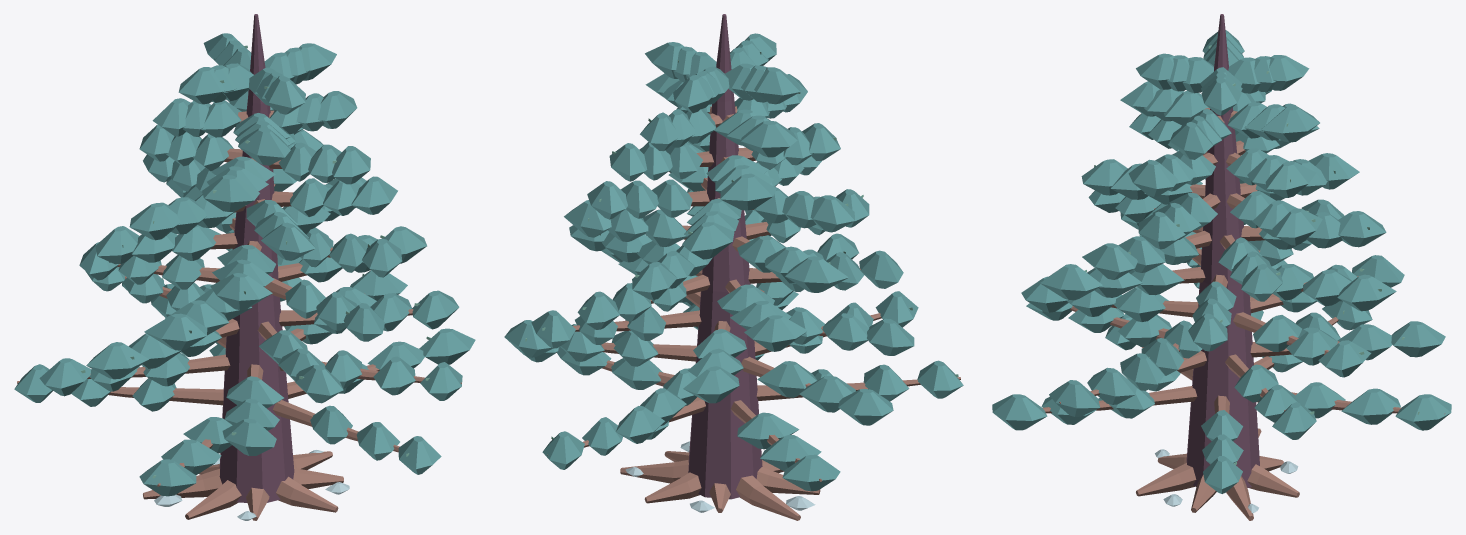
File: lagoon_tree_sitka_spruce.glb
3 renders of one model, left to right at view 1: azimuth 30°, elevation 25°; view 2: azimuth 150°, elevation 25°; view 3: azimuth 270°, elevation 25°, orthographic. The views are drawn at different scales.
Visible parts, largest first — view 1: lagoon_tree_sitka_spruce.001; view 2: lagoon_tree_sitka_spruce.001; view 3: lagoon_tree_sitka_spruce.001.
Boxes of the visible parts, bbox=[...] form: lagoon_tree_sitka_spruce.001: bbox=[14, 14, 475, 520]; lagoon_tree_sitka_spruce.001: bbox=[504, 14, 963, 520]; lagoon_tree_sitka_spruce.001: bbox=[992, 14, 1451, 520].
Size of the model in its own units: 8.39 by 9.31 by 8.32.
